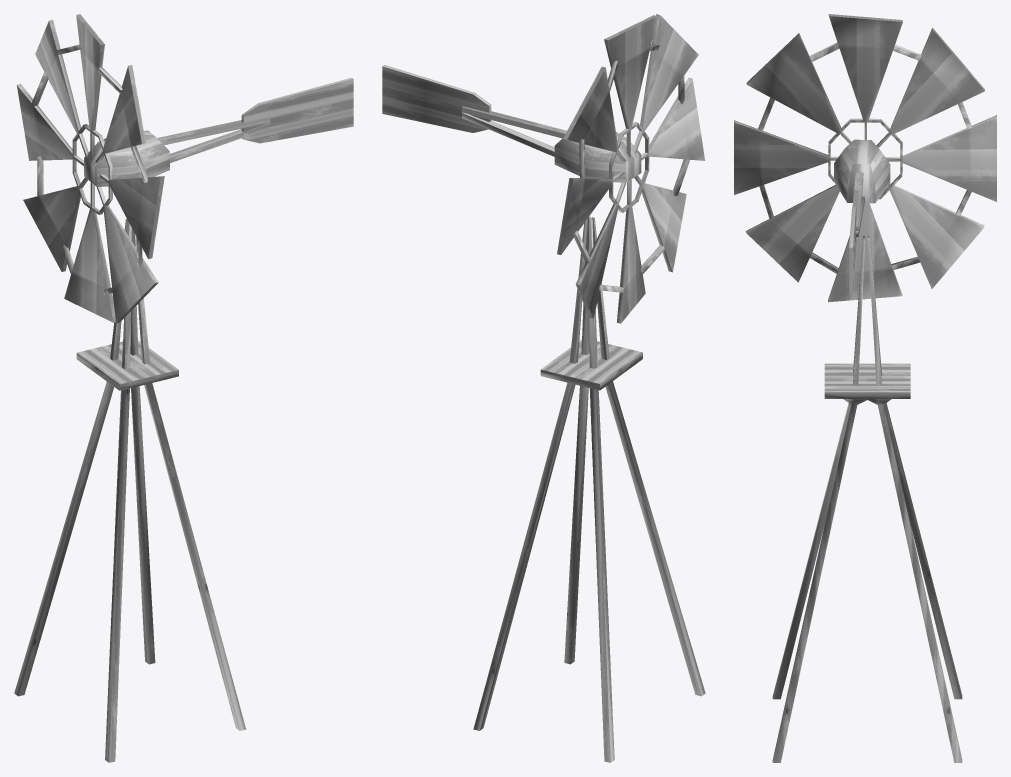
Rendered from WindMillModel (1).fbx.
3 renders of one model, left to right at view 1: azimuth 30°, elevation 25°; view 2: azimuth 150°, elevation 25°; view 3: azimuth 270°, elevation 25°, orthographic.
Visible parts, largest first — view 1: WindMillBlade, Windmill, WindMillTop; view 2: WindMillBlade, Windmill, WindMillTop; view 3: WindMillBlade, Windmill, WindMillTop.
Boxes of the visible parts, x1,y1,x2,y2 form: WindMillBlade: (17,14,164,323); Windmill: (14,219,245,762); WindMillTop: (84,77,353,186); WindMillBlade: (557,14,704,323); Windmill: (473,216,705,762); WindMillTop: (382,65,641,182); WindMillBlade: (734,14,996,302); Windmill: (772,236,962,762); WindMillTop: (834,139,890,294).
Bounding box in the file's own units: 2.01 × 4.7 × 1.62.
Materials: 1 (1 with a texture image).
